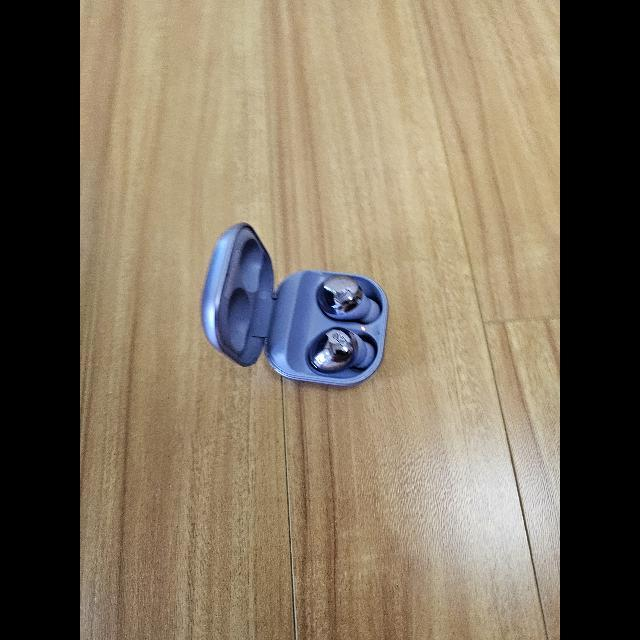buds-pro: (199, 222, 391, 392)
